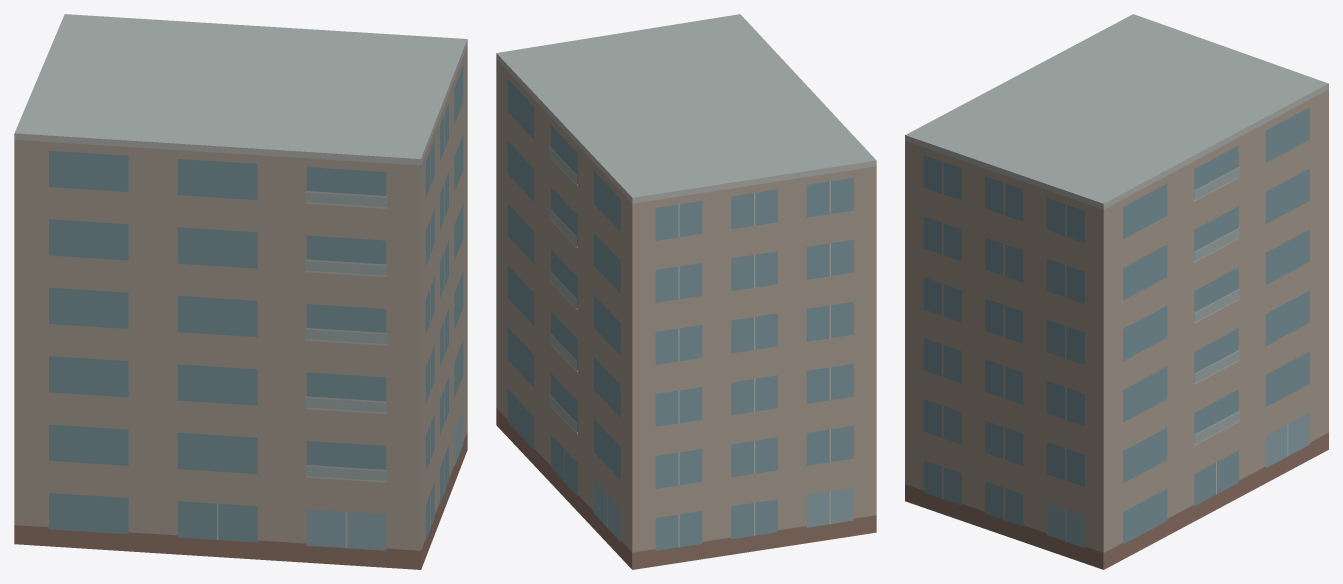
Rendered from survey-upis-32849476.glb.
The picture shows the model from 3 angles, left to right: view 1: azimuth 30°, elevation 25°; view 2: azimuth 150°, elevation 25°; view 3: azimuth 270°, elevation 25°; orthographic projection. The views are drawn at different scales.
Visible parts, largest first — view 1: survey-upis-32849476.tmp; view 2: survey-upis-32849476.tmp; view 3: survey-upis-32849476.tmp.
Boxes of the visible parts, x1,y1,x2,y2 form: survey-upis-32849476.tmp: (14,14,467,569); survey-upis-32849476.tmp: (496,14,876,569); survey-upis-32849476.tmp: (905,14,1328,569).
Size of the model in its own units: 17.35 by 15.6 by 16.37.
